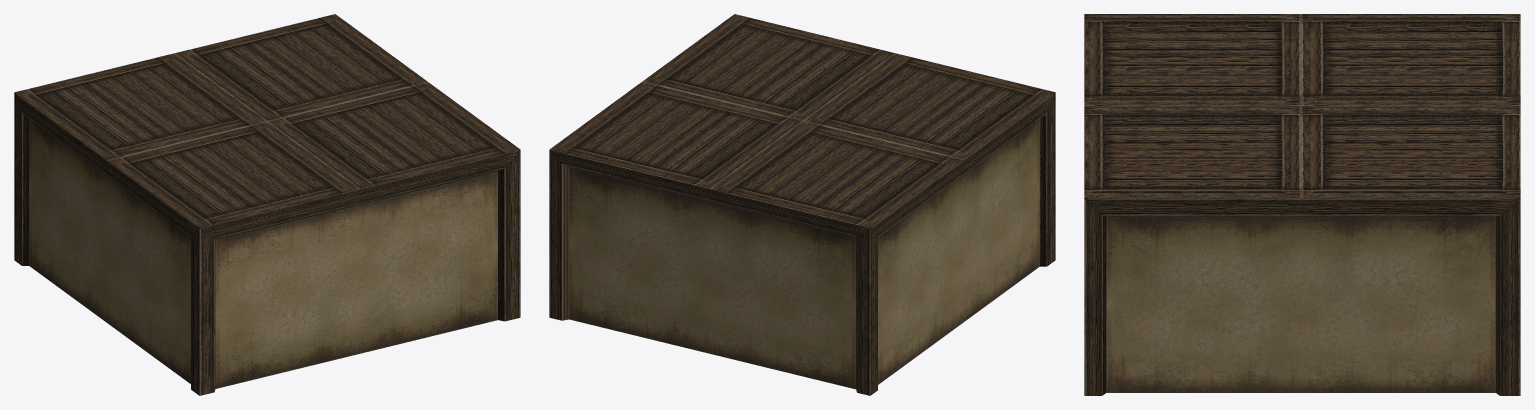
File: House_8X8_04a.fbx
The picture shows the model from 3 angles, left to right: view 1: azimuth 30°, elevation 25°; view 2: azimuth 150°, elevation 25°; view 3: azimuth 270°, elevation 25°; orthographic projection. The views are drawn at different scales.
Parts seen in each view (by area): view 1: House_8X8_04a; view 2: House_8X8_04a; view 3: House_8X8_04a.
Boxes of the visible parts, bbox=[...] form: House_8X8_04a: bbox=[14, 14, 520, 395]; House_8X8_04a: bbox=[549, 14, 1055, 395]; House_8X8_04a: bbox=[1084, 14, 1520, 395].
Bounding box in the file's own units: 8 × 4 × 8.
